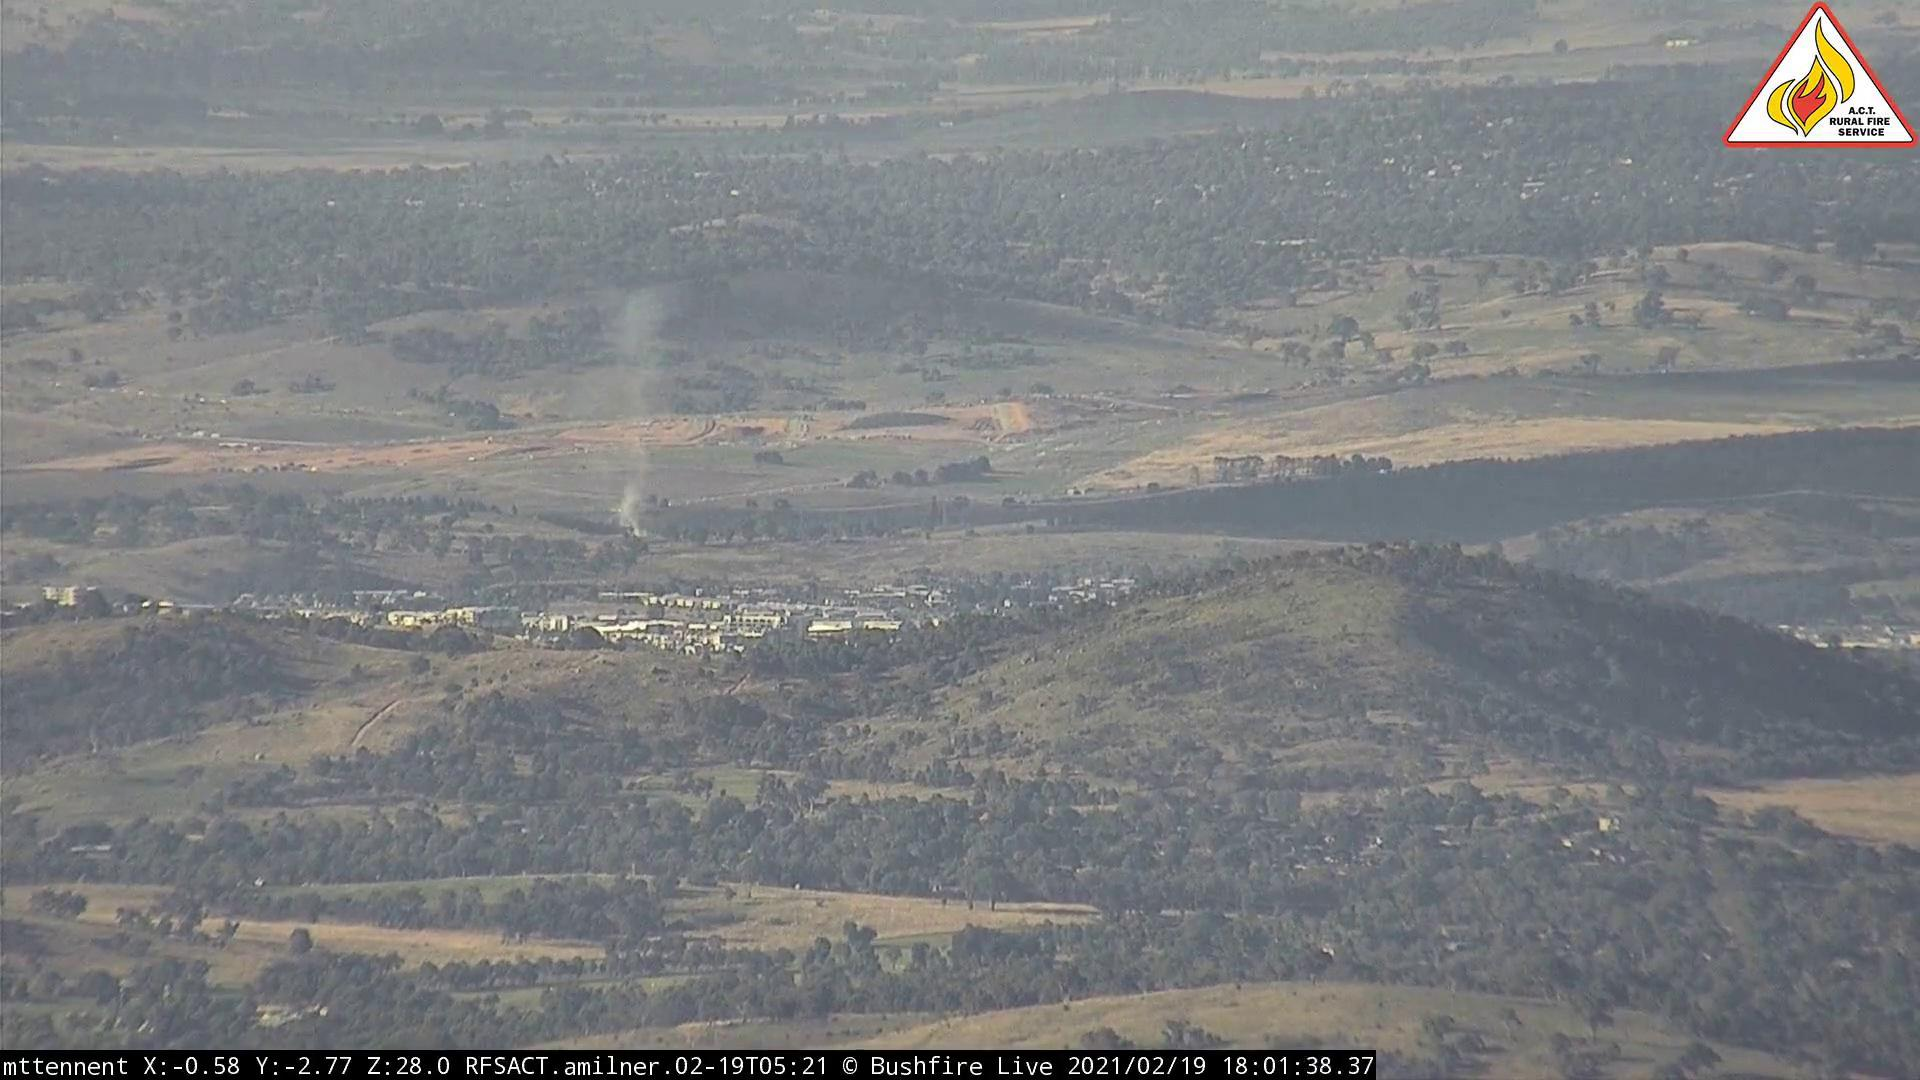instance_salient_object: (593, 433, 680, 542)
